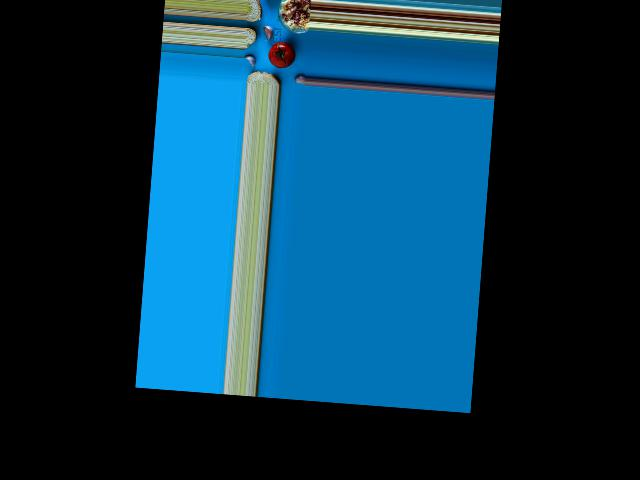tomato: (267, 42, 296, 69)
